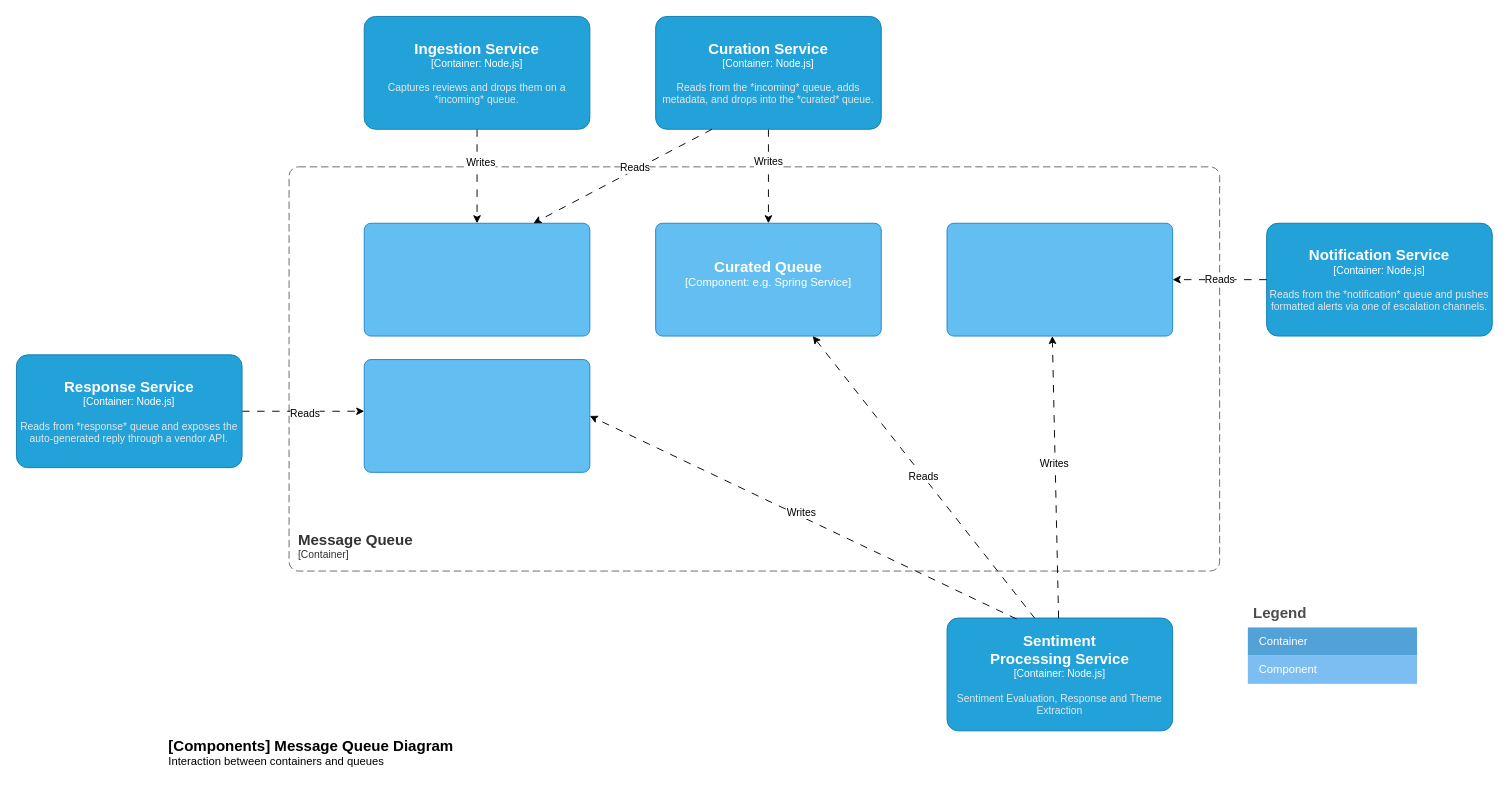
Image size: 1509x786. Some labels were removed from this diagram. Here are the shapes that lost their labels. From the top down, the centre of each, then its label:
At pixel 476 279: "Incoming Queue [Component: e.g. Spring Service]".
At pixel 1059 279: "Notification Queue [Component: e.g. Spring Service]".
At pixel 476 415: "Outgoing Queue [Component: e.g. Spring Service]".
